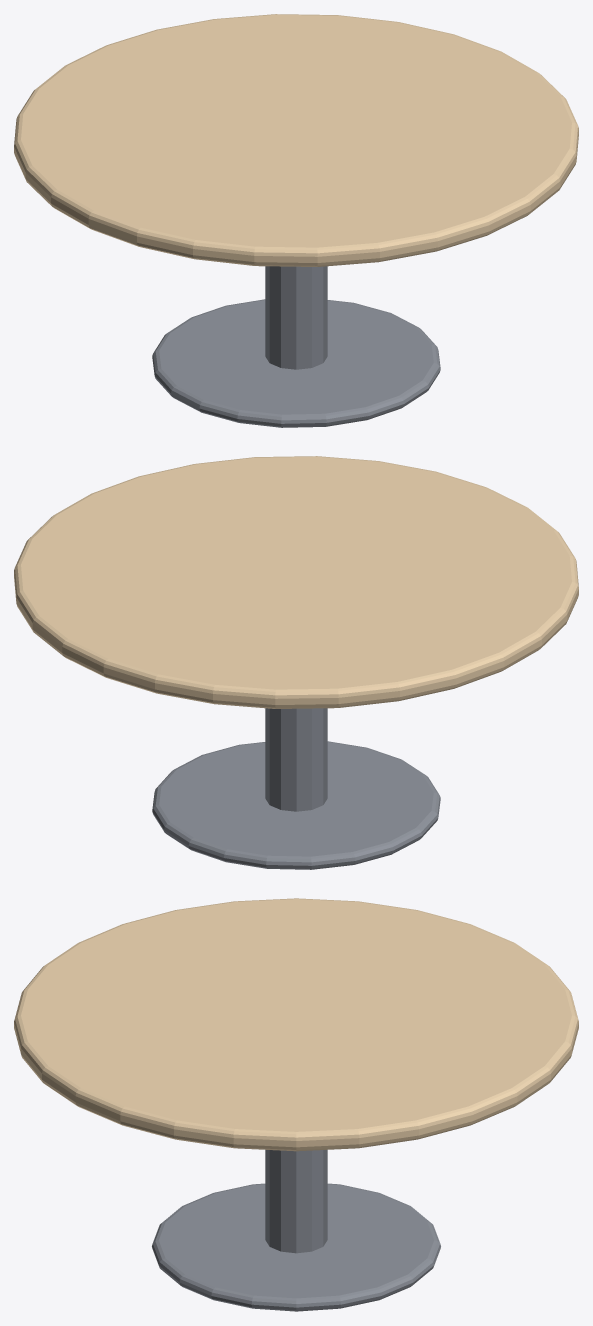
The model's file is RoundTable.fbx.
3 renders of one model, top to bottom at view 1: azimuth 30°, elevation 25°; view 2: azimuth 150°, elevation 25°; view 3: azimuth 270°, elevation 25°, orthographic.
Visible parts, largest first — view 1: RoundTable; view 2: RoundTable; view 3: RoundTable.
Part boxes in pixels (x1,y1,x2,y2): RoundTable: (14, 14, 578, 427); RoundTable: (14, 456, 578, 869); RoundTable: (14, 898, 578, 1311).
Size of the model in its own units: 1.64 by 0.76 by 1.64.
